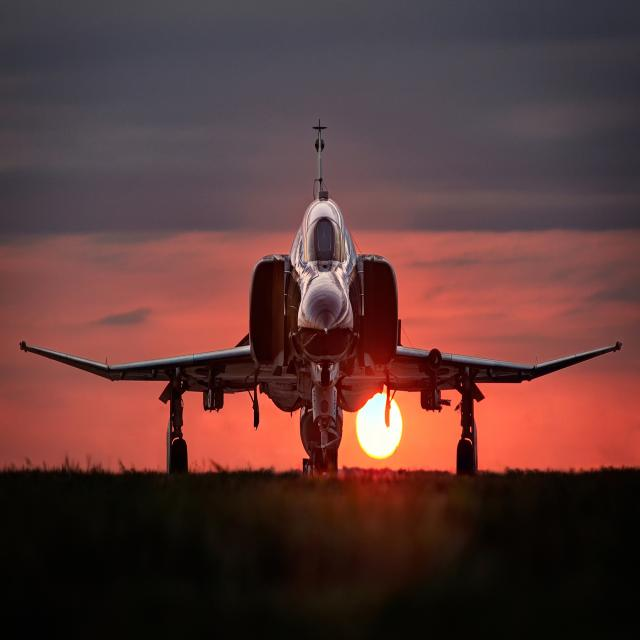MIL_Plane: (19, 116, 624, 474)
